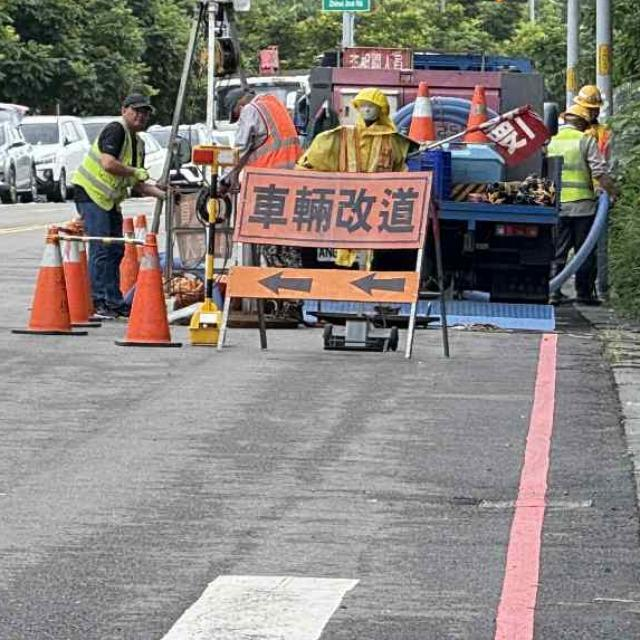Vest: (74, 119, 148, 208), (544, 127, 604, 210)
